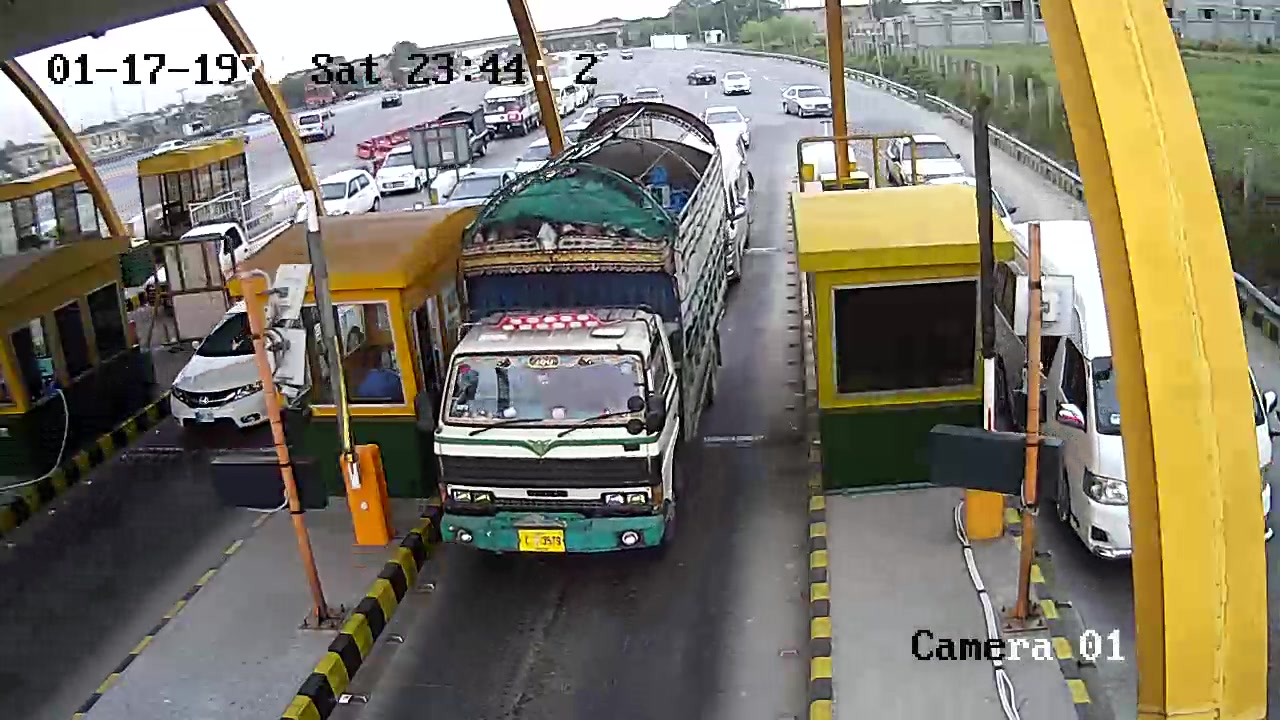F5: (431, 94, 751, 562)
